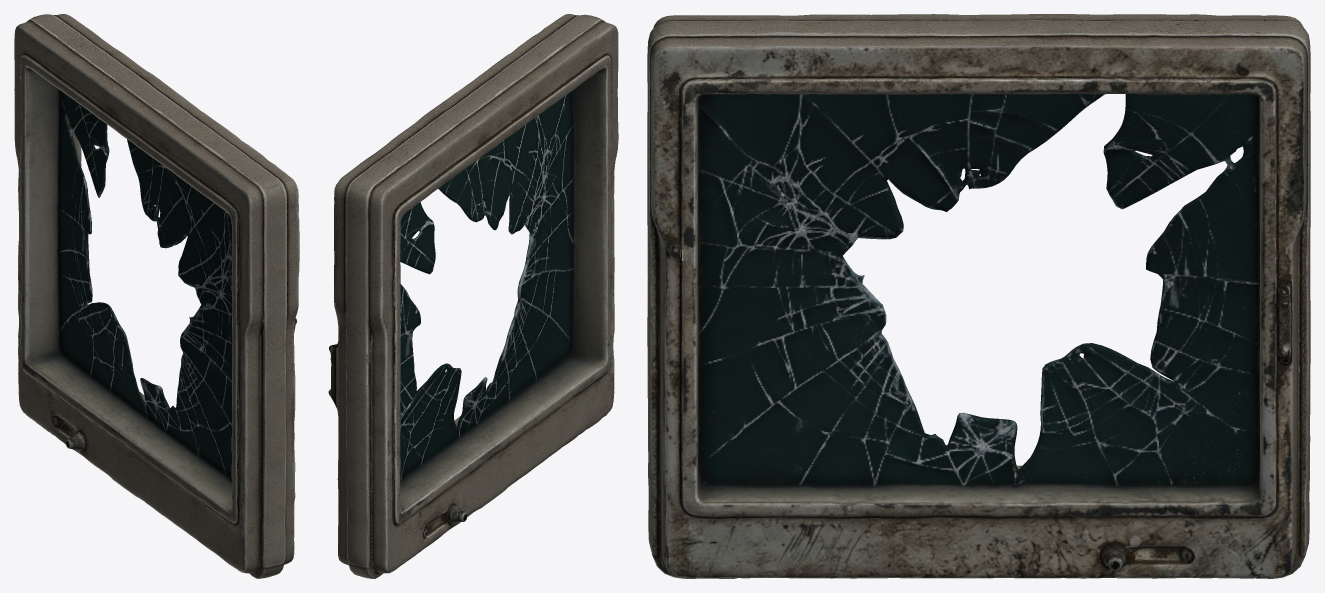
Rendered from broken+monitor+3d+model.glb.
3 renders of one model, left to right at view 1: azimuth 30°, elevation 25°; view 2: azimuth 150°, elevation 25°; view 3: azimuth 270°, elevation 25°, orthographic. The views are drawn at different scales.
Visible parts, largest first — view 1: tripo_node_26b0d3d1-0e2c-488a-a90e-454c541473b5; view 2: tripo_node_26b0d3d1-0e2c-488a-a90e-454c541473b5; view 3: tripo_node_26b0d3d1-0e2c-488a-a90e-454c541473b5.
Boxes of the visible parts, left/top/right/bottom form: tripo_node_26b0d3d1-0e2c-488a-a90e-454c541473b5: left=14, top=14, right=299, bottom=578; tripo_node_26b0d3d1-0e2c-488a-a90e-454c541473b5: left=328, top=14, right=618, bottom=578; tripo_node_26b0d3d1-0e2c-488a-a90e-454c541473b5: left=647, top=14, right=1310, bottom=578.
Size of the model in its own units: 0.183 by 0.8965 by 0.9807.
Materials: 1 (1 with a texture image).
